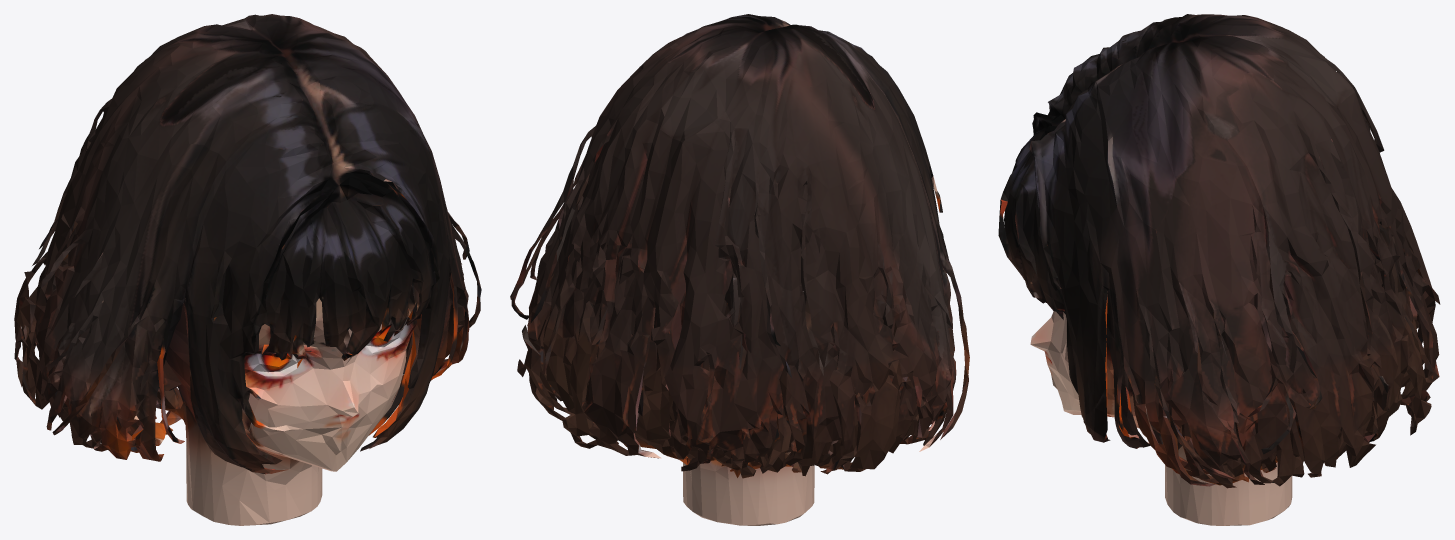
File: side_akiko_repaired_atlas.glb
3 views of the same model, side by side, from view 1: azimuth 30°, elevation 25°; view 2: azimuth 150°, elevation 25°; view 3: azimuth 270°, elevation 25° (orthographic). The views are drawn at different scales.
Parts seen in each view (by area): view 1: temp_mesh.ply; view 2: temp_mesh.ply; view 3: temp_mesh.ply.
Part boxes in pixels (x1,y1,x2,y2): temp_mesh.ply: (14, 14, 481, 525); temp_mesh.ply: (510, 14, 969, 525); temp_mesh.ply: (998, 14, 1440, 525).
Size of the model in its own units: 1.42 by 1.5 by 1.29.
Materials: 1 (1 with a texture image).
